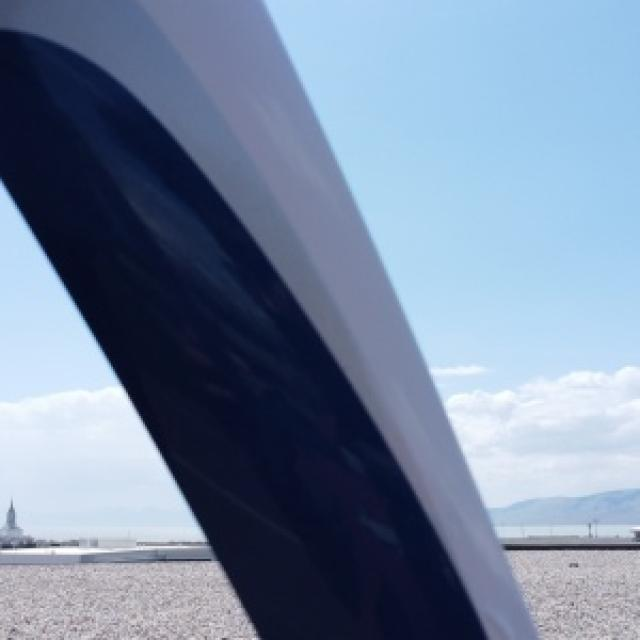healthy: (0, 0, 535, 638)
